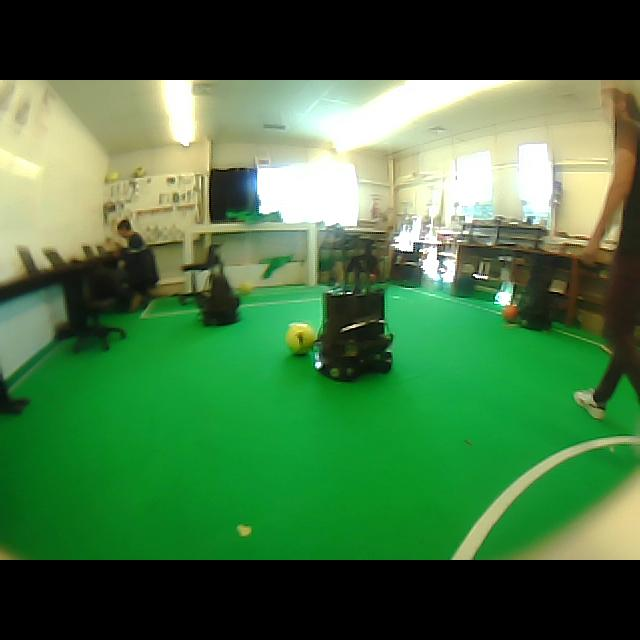ball: (286, 323, 315, 354), (502, 305, 518, 322), (240, 282, 255, 294), (132, 166, 146, 178), (105, 171, 120, 182)
goal: (307, 223, 317, 285)
robot: (198, 248, 238, 325), (519, 255, 554, 329)
